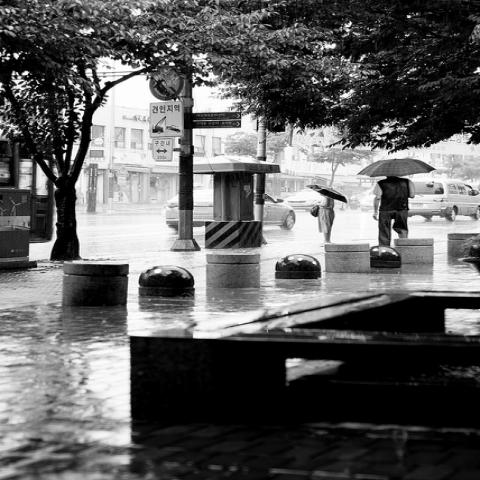car: (164, 183, 298, 231), (408, 178, 480, 222), (284, 189, 323, 212), (360, 195, 375, 212)
